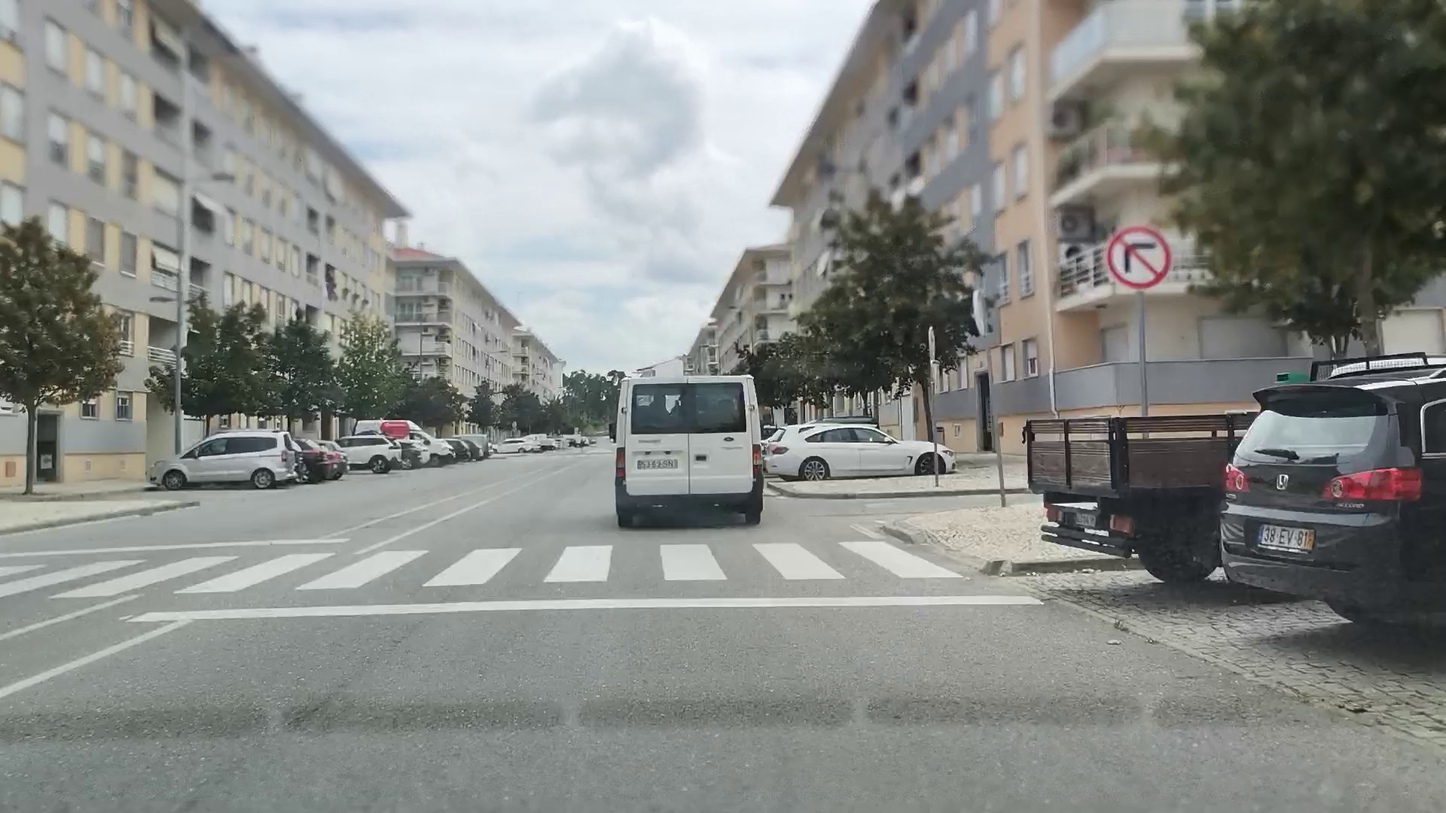Stairs: (0, 545, 965, 591)
